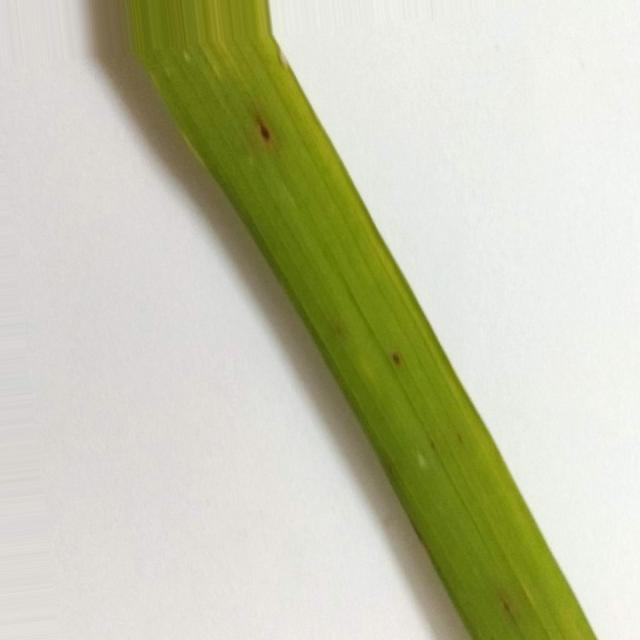Brown_Spot: (252, 116, 274, 148), (390, 351, 405, 369), (501, 599, 515, 618), (424, 439, 436, 458), (454, 429, 466, 444)
